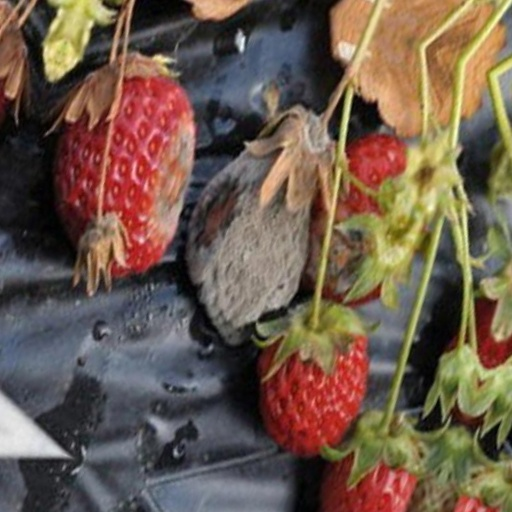Gray Mold: (181, 98, 309, 349), (120, 152, 173, 280)
